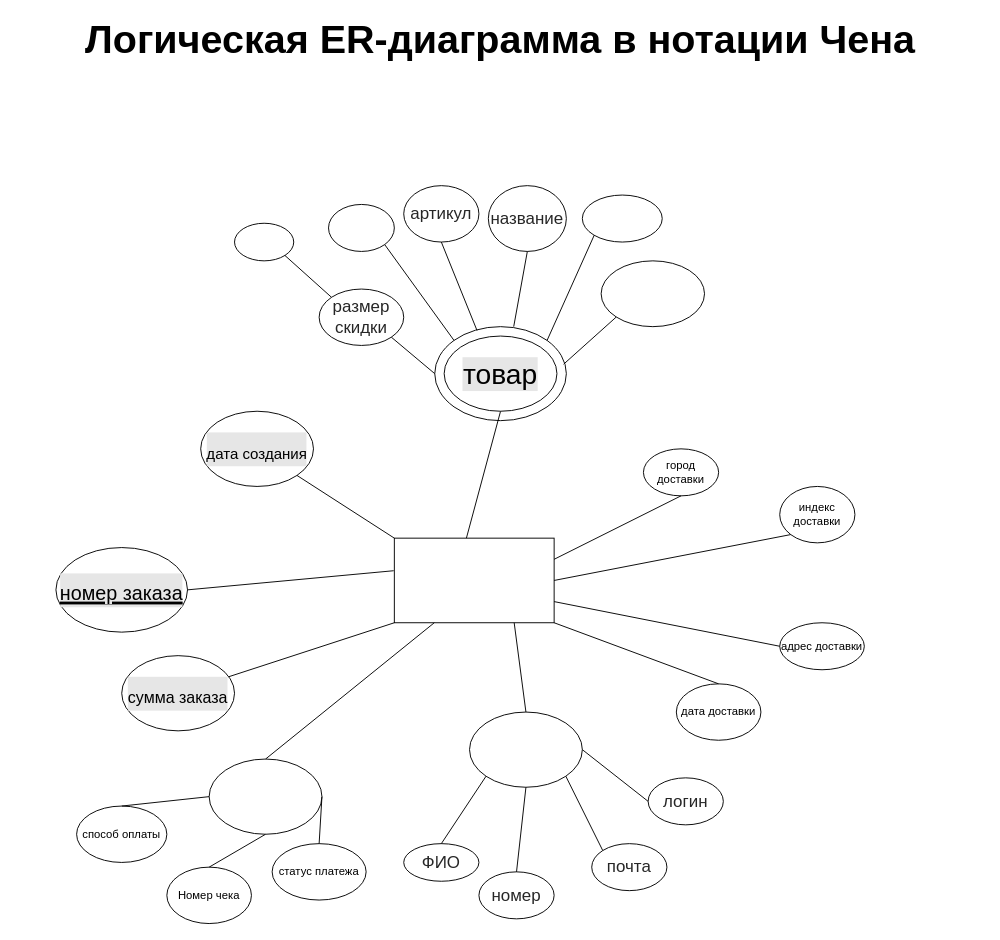
Some shapes in this 1000 by 940 pixel diagram are drawn without their labels. Each missing label, with the centre of its shape:
акция: (361,227)
Заказ: (473,580)
количество: (652,293)
описание: (621,218)
оплата: (265,796)
Пользователь: (525,749)
цена: (264,241)
